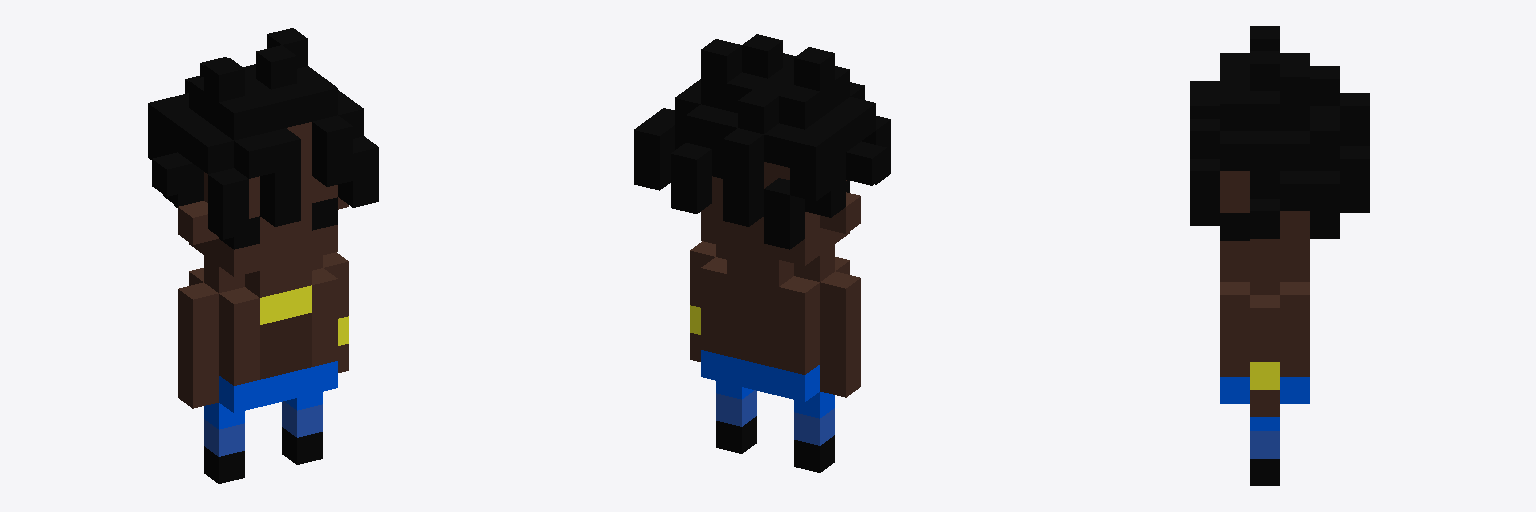
3 renders of one model, left to right at view 1: azimuth 30°, elevation 25°; view 2: azimuth 150°, elevation 25°; view 3: azimuth 270°, elevation 25°, orthographic.
Parts seen in each view (by area): view 1: object 1; view 2: object 1; view 3: object 1.
Boxes of the visible parts, box(x1,y1,x2,y2) form: object 1: box(148, 28, 378, 483); object 1: box(634, 34, 890, 472); object 1: box(1190, 26, 1369, 485).
Size of the model in its own units: 0.8 by 1.5 by 0.6.
1 materials, 1 textured.